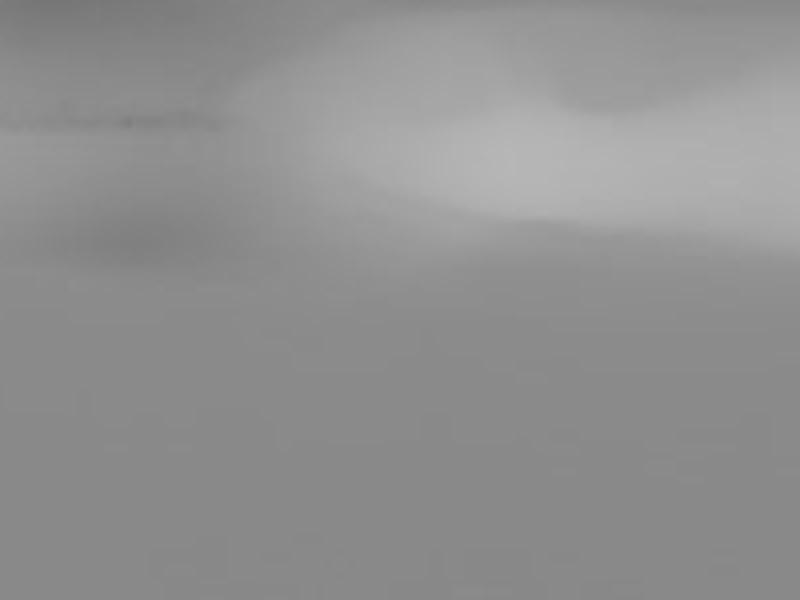defect: (117, 111, 143, 132)
